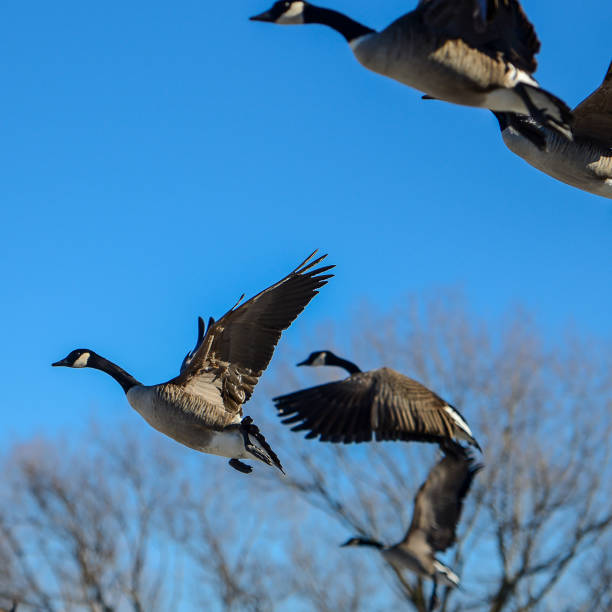goose: (46, 246, 337, 479), (241, 1, 569, 122), (272, 349, 486, 462), (336, 446, 482, 588)
